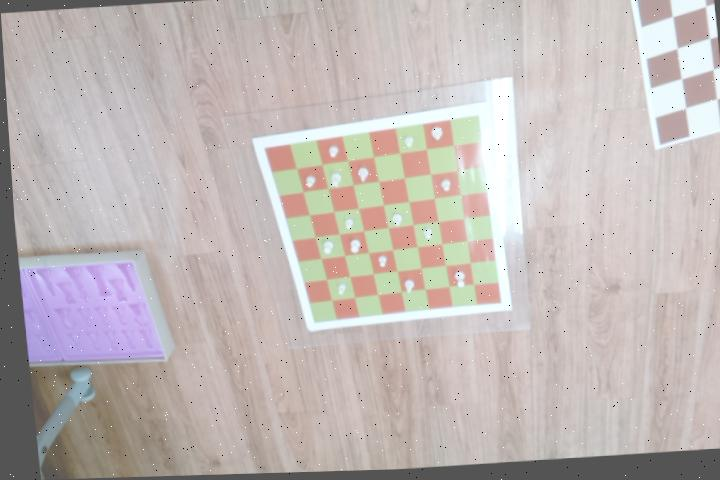chessboard-detect: (260, 117, 496, 324)
